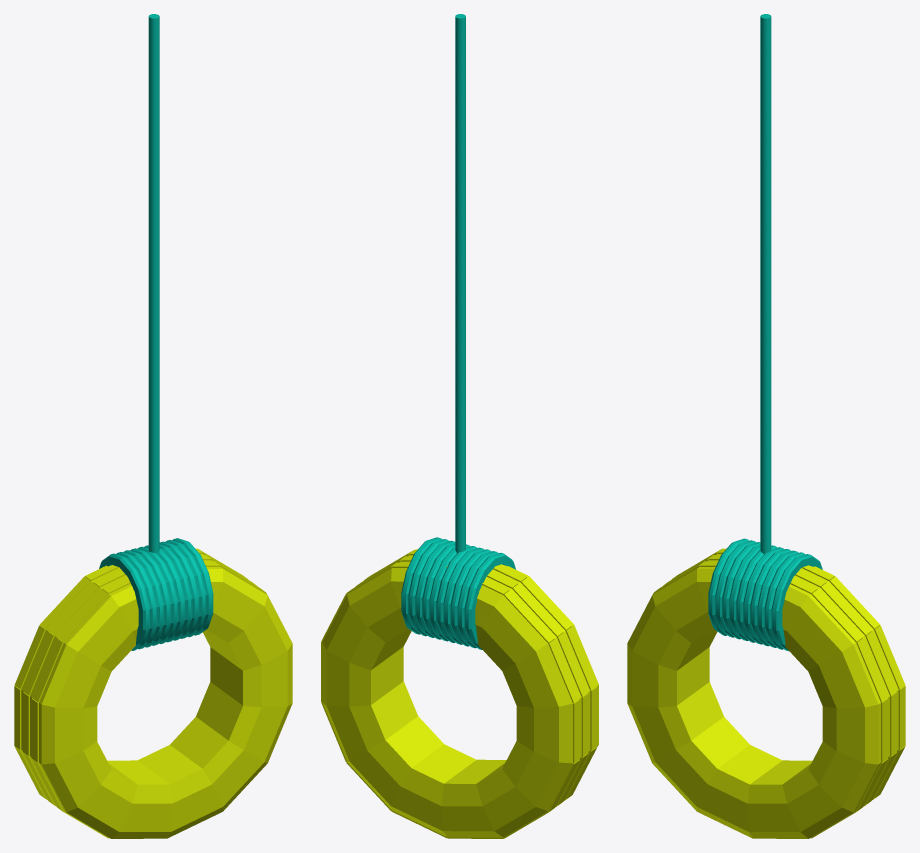
The model's file is TireSwing_BH.fbx.
3 views of the same model, side by side, from view 1: azimuth 30°, elevation 25°; view 2: azimuth 150°, elevation 25°; view 3: azimuth 330°, elevation 25° (orthographic).
Visible parts, largest first — view 1: TireSwing_BH; view 2: TireSwing_BH; view 3: TireSwing_BH.
Boxes of the visible parts, box(x1,y1,x2,y2) form: TireSwing_BH: box(14, 14, 292, 838); TireSwing_BH: box(321, 14, 598, 838); TireSwing_BH: box(627, 14, 905, 838).
Size of the model in its own units: 127 by 388 by 41.87.
